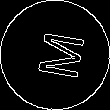M_W: (26, 28, 84, 82)
